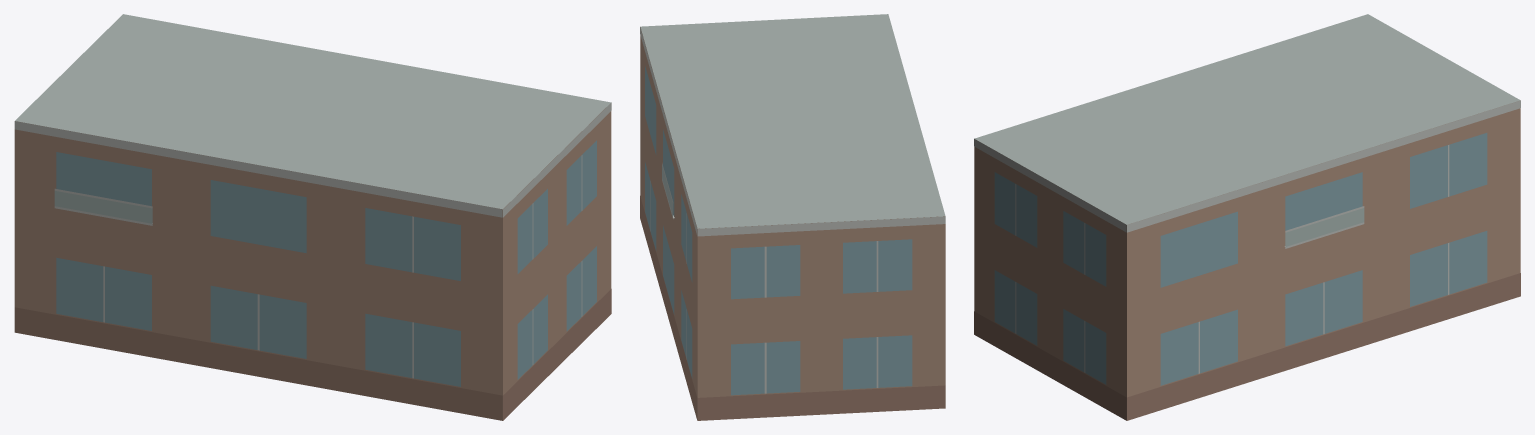
File: residential-deae231f-f118-4311-aca0-7c3118060a26.glb
The picture shows the model from 3 angles, left to right: view 1: azimuth 30°, elevation 25°; view 2: azimuth 150°, elevation 25°; view 3: azimuth 270°, elevation 25°; orthographic projection. The views are drawn at different scales.
Parts seen in each view (by area): view 1: residential-deae231f-f118-4311-aca0-7c3118060a26.tmp; view 2: residential-deae231f-f118-4311-aca0-7c3118060a26.tmp; view 3: residential-deae231f-f118-4311-aca0-7c3118060a26.tmp.
Boxes of the visible parts, x1,y1,x2,y2 form: residential-deae231f-f118-4311-aca0-7c3118060a26.tmp: (14,14,611,420); residential-deae231f-f118-4311-aca0-7c3118060a26.tmp: (640,14,945,420); residential-deae231f-f118-4311-aca0-7c3118060a26.tmp: (974,14,1520,420).
Bounding box in the file's own units: 14.08 × 6.1 × 15.43.
